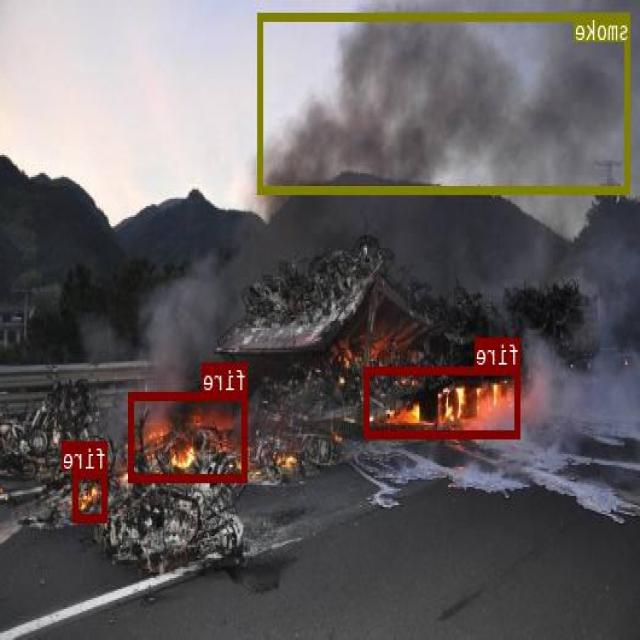fire: (365, 365, 521, 437), (130, 391, 248, 481), (74, 469, 108, 521)
smoke: (258, 12, 630, 192)
